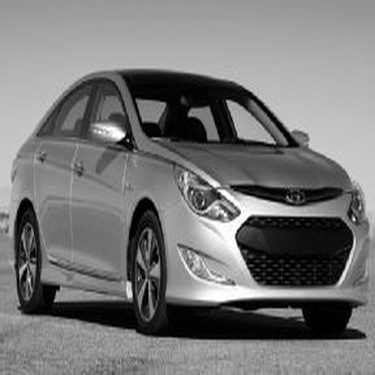car: (10, 66, 371, 316)
